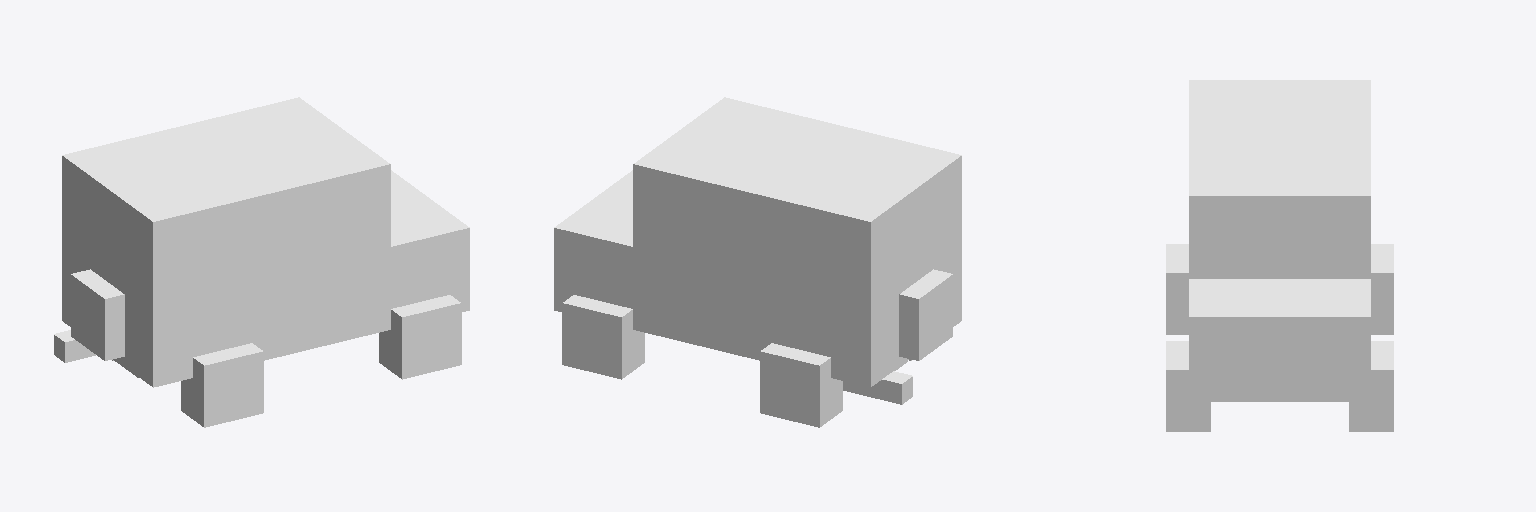
The model's file is car.obj.
3 renders of one model, left to right at view 1: azimuth 30°, elevation 25°; view 2: azimuth 150°, elevation 25°; view 3: azimuth 270°, elevation 25°, orthographic.
Size of the model in its own units: 34 by 20 by 20.